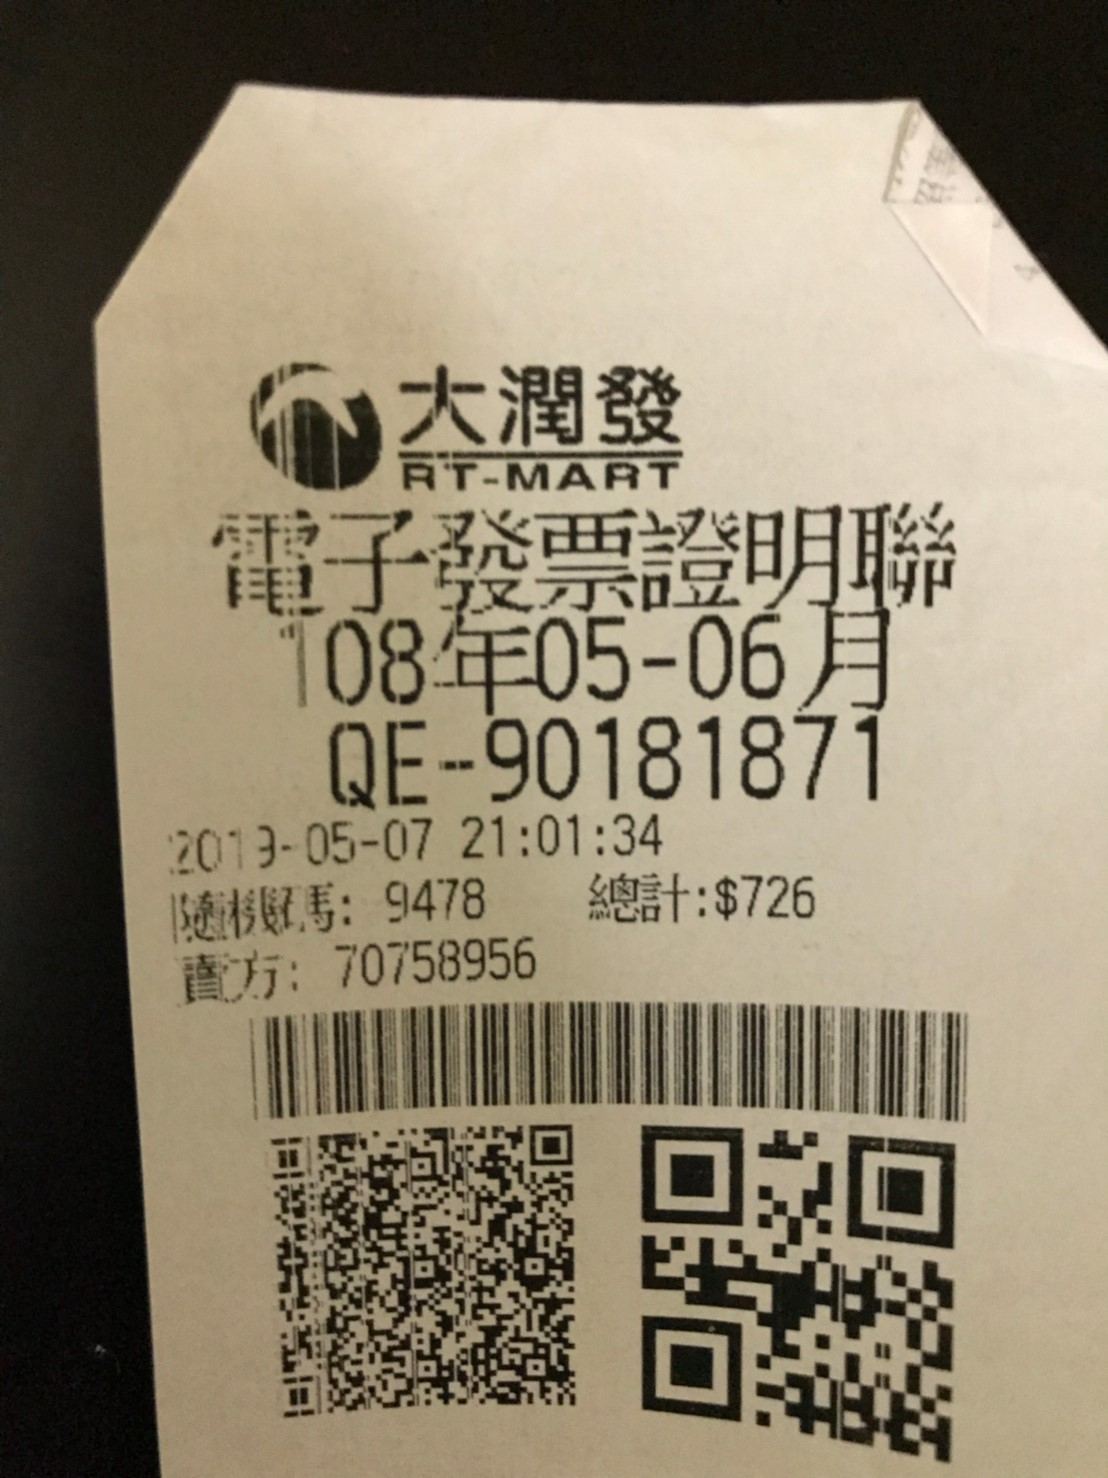Date_New: (277, 607, 893, 708)
Number_New: (486, 713, 887, 812)
